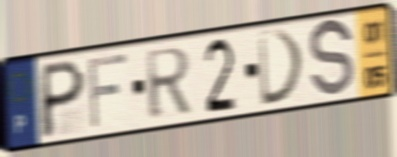2: (202, 35, 238, 116)
D: (256, 27, 307, 110)
F: (85, 50, 130, 134)
P: (38, 56, 88, 141)
R: (143, 44, 194, 123)
S: (307, 16, 356, 103)
